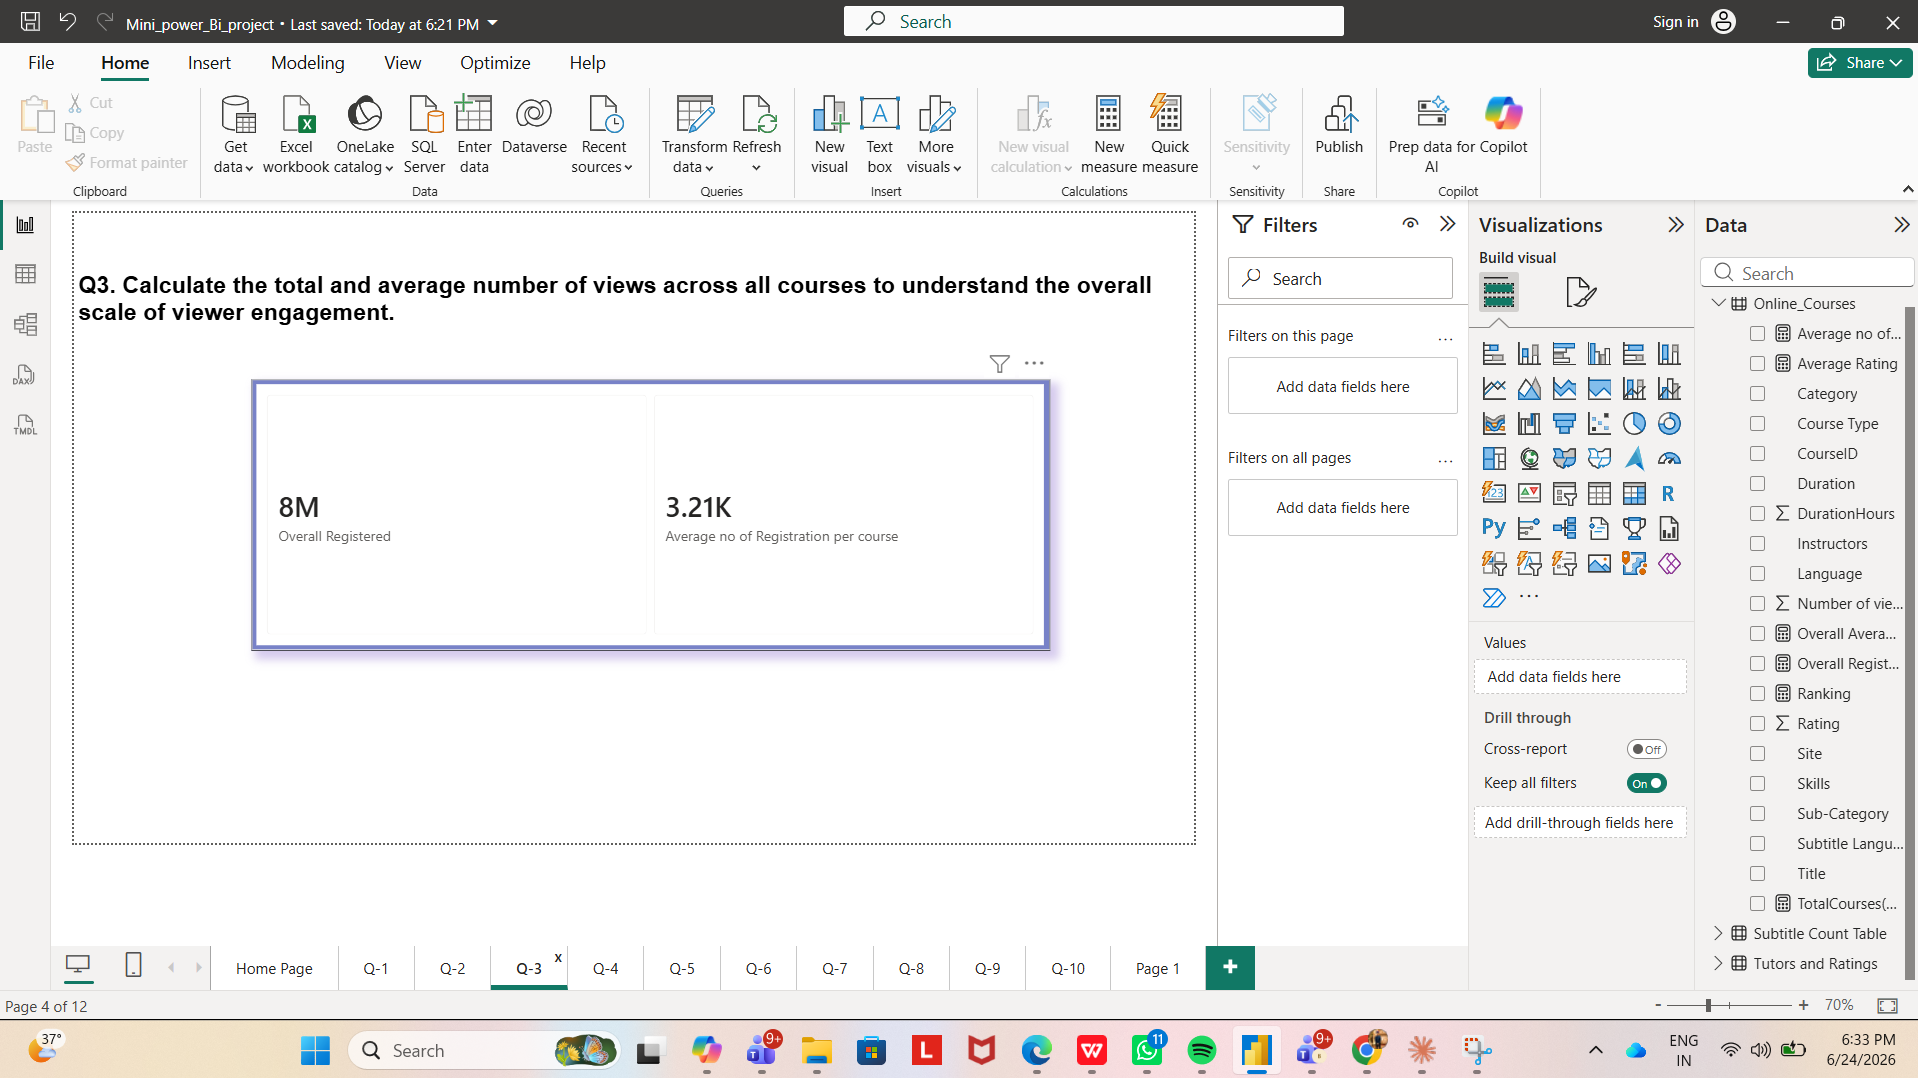

The dashboard page shown, as its layout file describes it:
{"tool":"powerbi","page":{"name":"Q-3","canvas":[1280,720],"ordinal":3},"visuals":[{"type":"cardVisual","fields":{"Data":["Online_Courses.Total Views","Online_Courses.Average no of Registration per course"]},"box":[203.1,189.4,912.5,310.1],"z":0},{"type":"textbox","box":[0,63.1,1237.7,81],"z":1000}]}

Visuals, with their boxes on the page's 1280x720 design canvas (x1, y1, x2, y2). These are canvas units, not pixel positions in the 1918x1078 screenshot, which may show the page scaled, cropped or inside an application window:
cardVisual - Online_Courses.Total Views x Online_Courses.Average no of Registration per course: box=[203, 189, 1116, 500]
textbox: box=[0, 63, 1238, 144]
